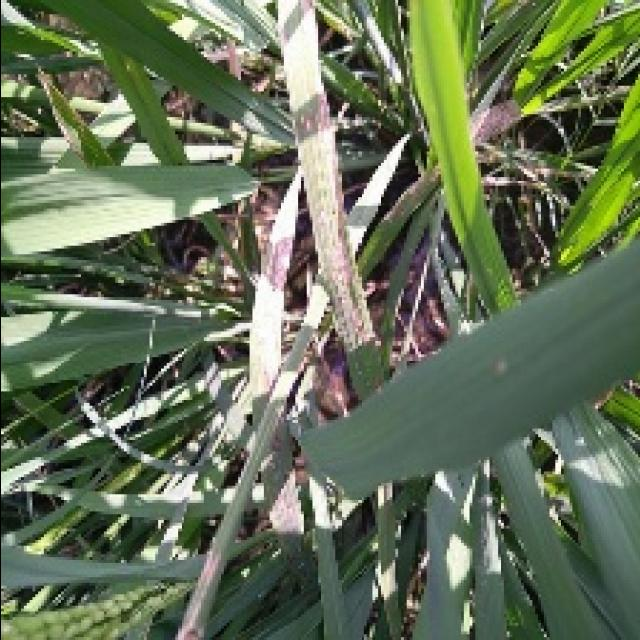Unhealthy: (174, 551, 218, 640), (381, 169, 436, 223), (36, 70, 83, 129), (264, 235, 293, 291), (53, 111, 84, 162), (494, 358, 509, 376)
